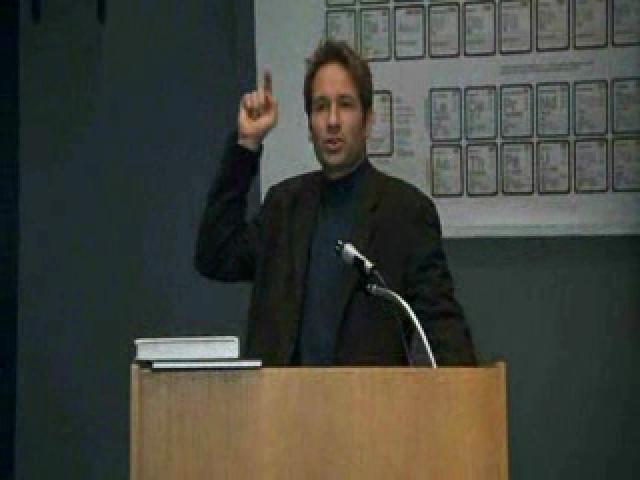T: (181, 38, 477, 370)
